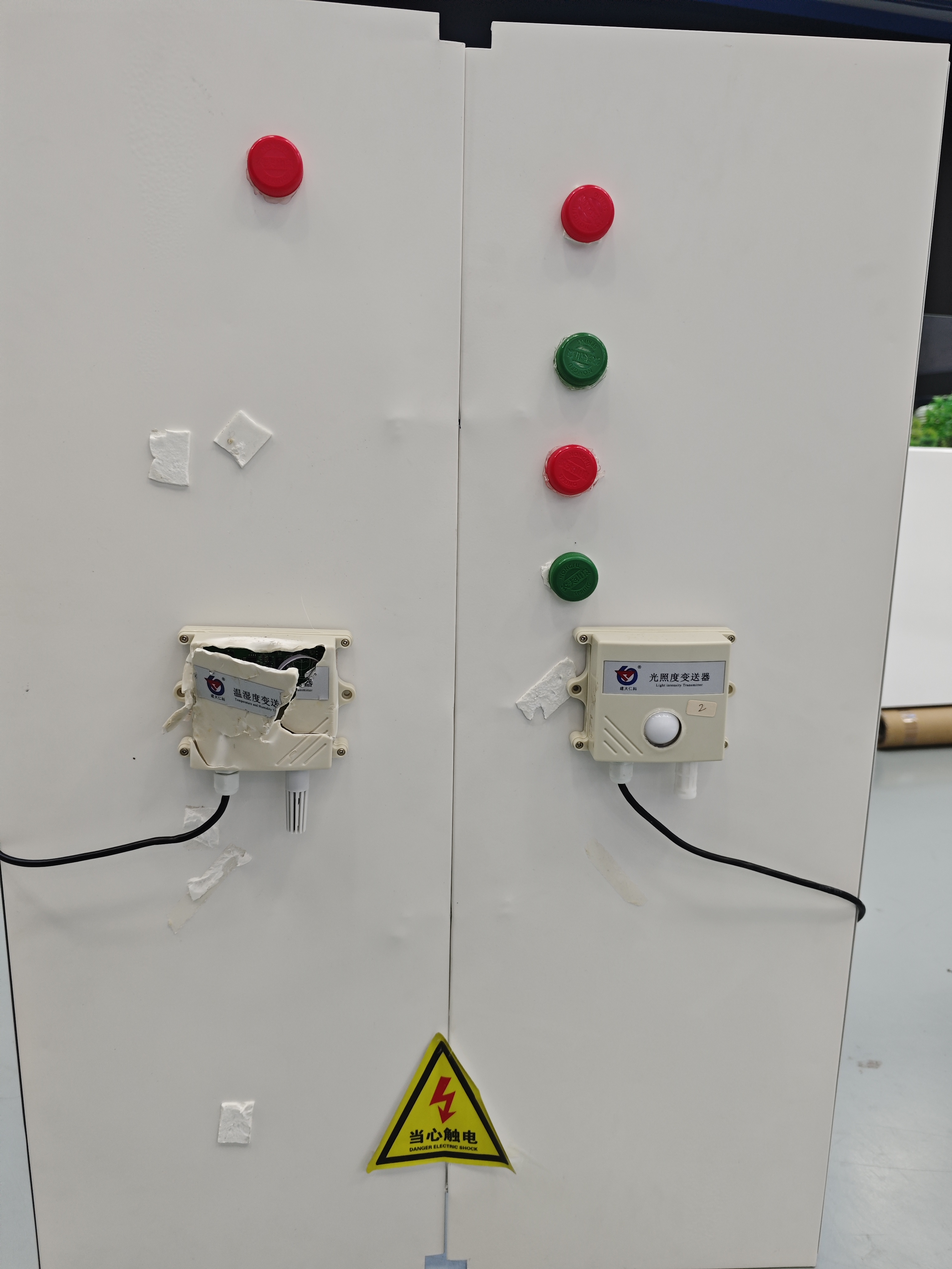red_warning: (238, 113, 352, 208), (534, 411, 612, 536), (546, 163, 617, 280)
sensor_damage: (147, 588, 368, 837)
